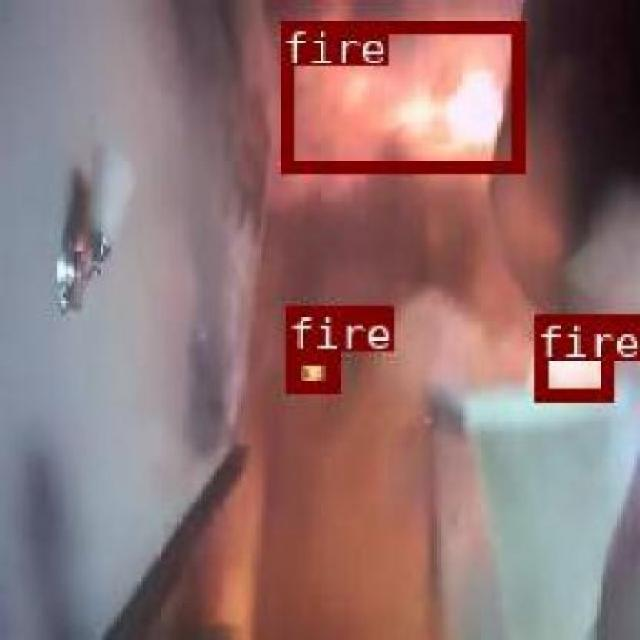Fire: (278, 19, 522, 170)
